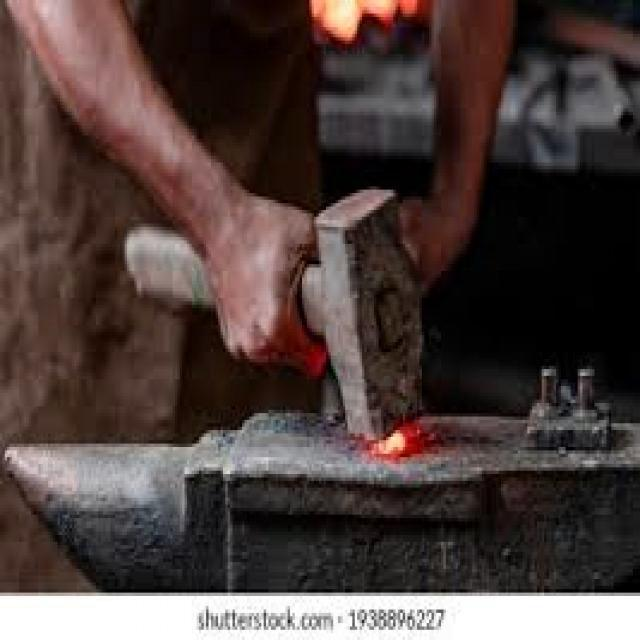hammer: (112, 176, 442, 450)
